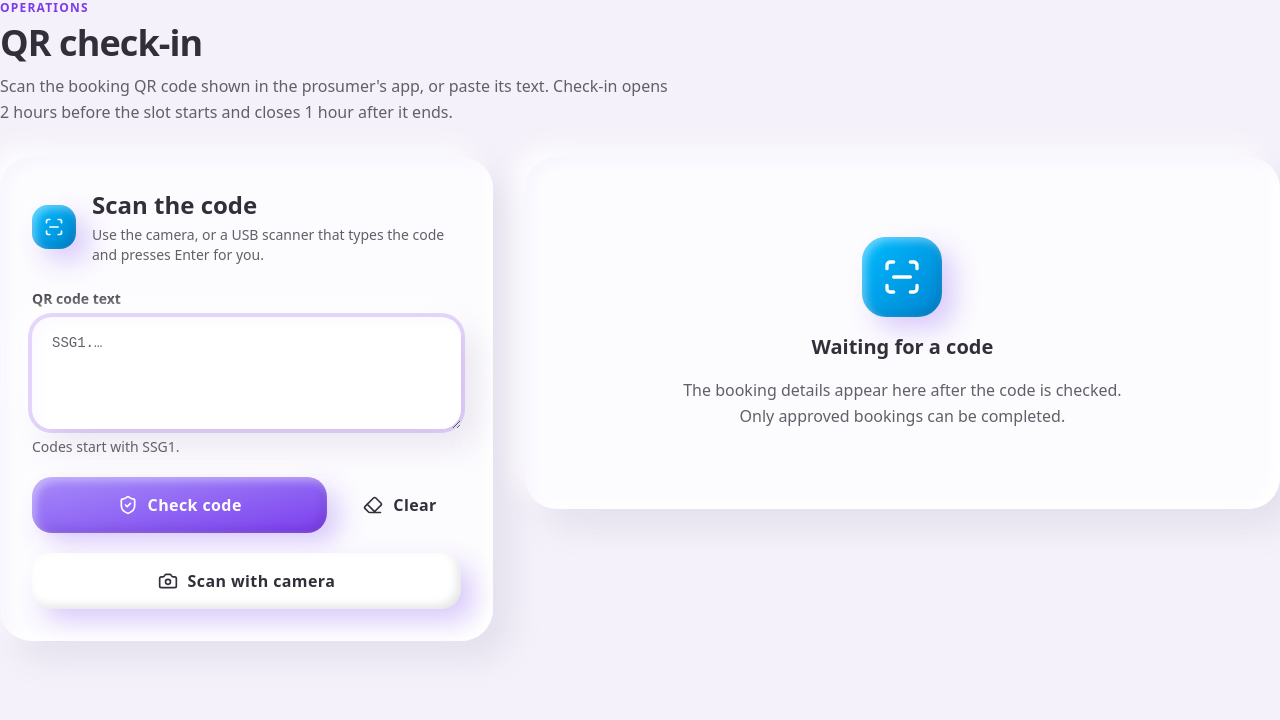
Test: CheckInPage › checks the scanned code and completes the transfer
The image size is (1280, 720).
Step 1. Type "SSG1.66e9a1b2c3d4e5f601234567.A1B2C3D4E5F60718.c2lnbmF0dXJl" into the text box labelled "QR code text" → (246, 373), box [32,317,461,429]
Then press Enter
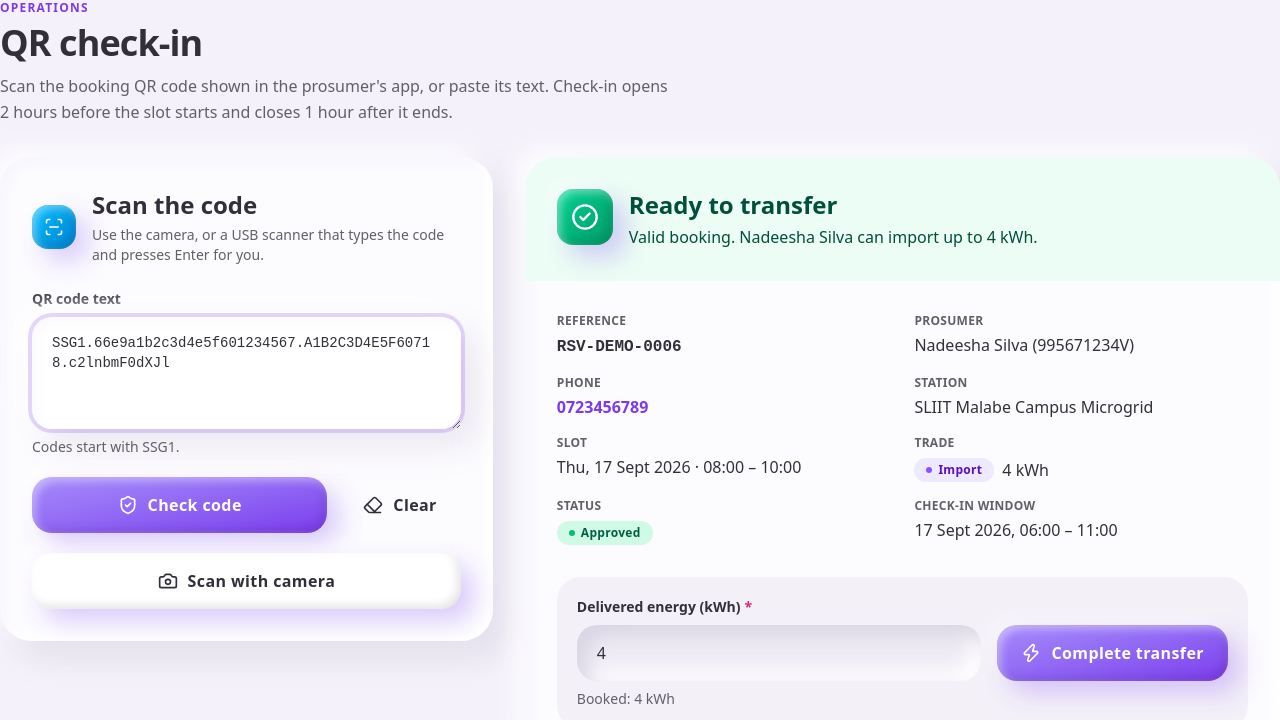
expect the text "Ready to transfer" is shown: met, box [629,188,837,221]
expect the text "Nadeesha Silva (995671234V)" is shown: met, box [914,334,1134,356]
expect the number field labelled "Delivered energy (kWh)" holds "4": met
Step 2. Replace the text in the number field labelled "Delivered energy (kWh)" with "3.5" → (779, 653), box [577,625,981,681]
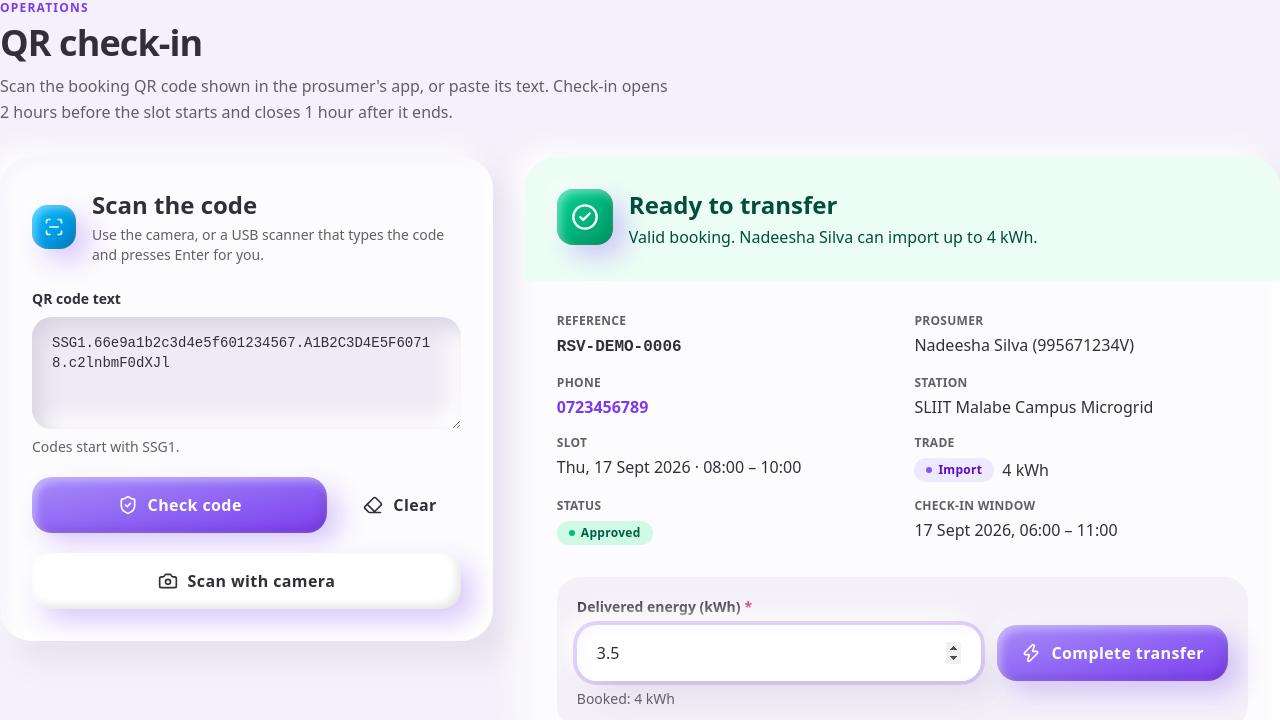
Step 3. Click the button "Complete transfer" → (1113, 653), box [997,625,1228,681]
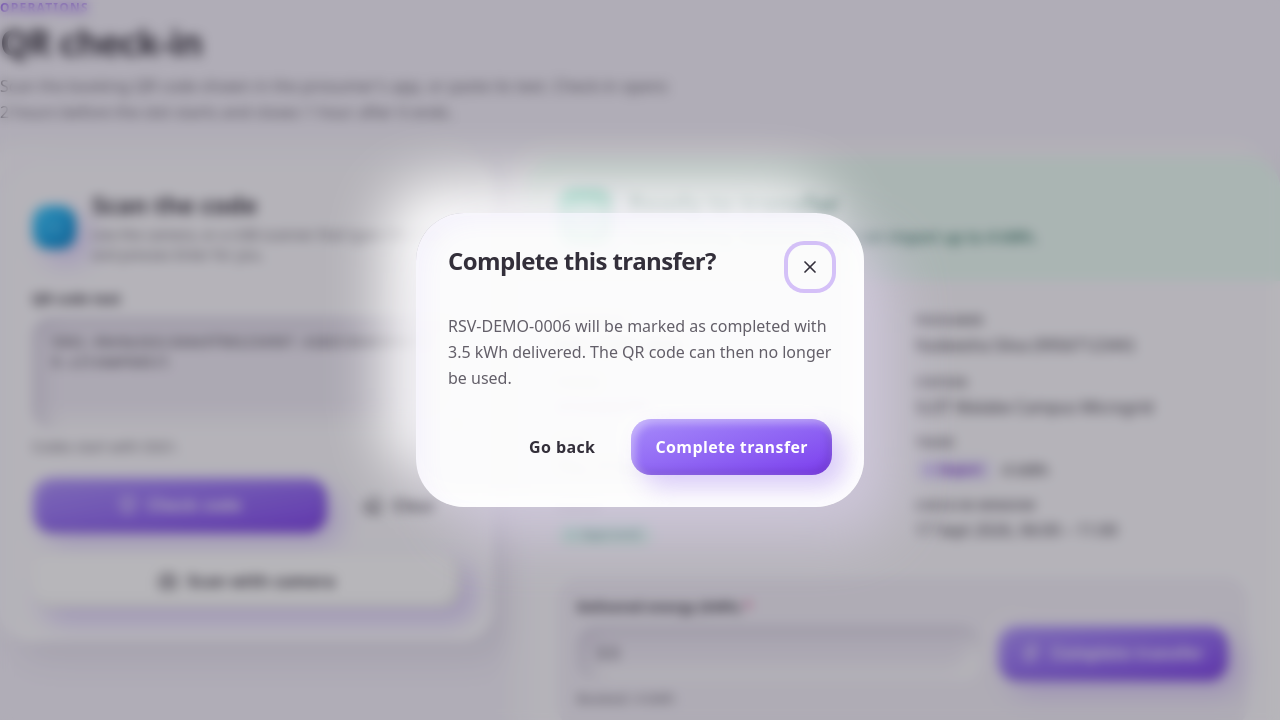
Step 4. Click the button "Complete transfer" → (732, 447), box [631,419,832,475]
(page scrolled)
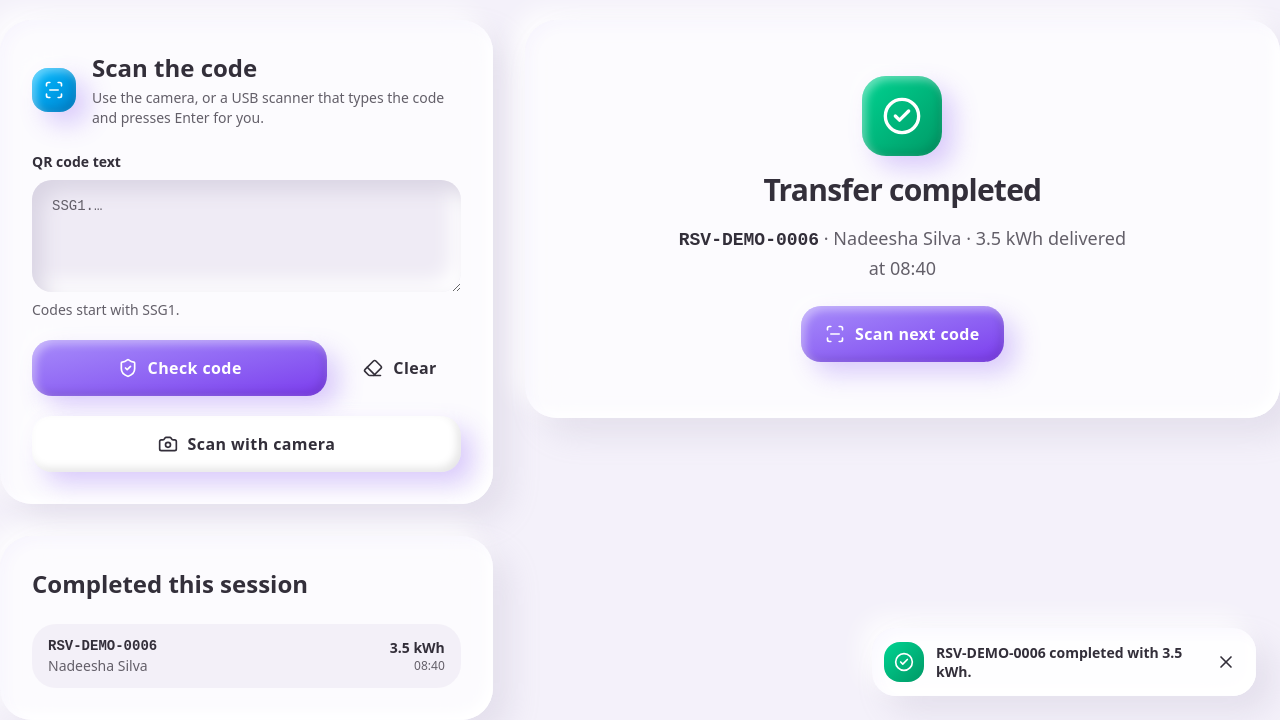
expect the heading "Transfer completed" is shown: met, box [763,172,1041,208]
expect the heading "Completed this session" is shown: met, box [32,568,308,600]
